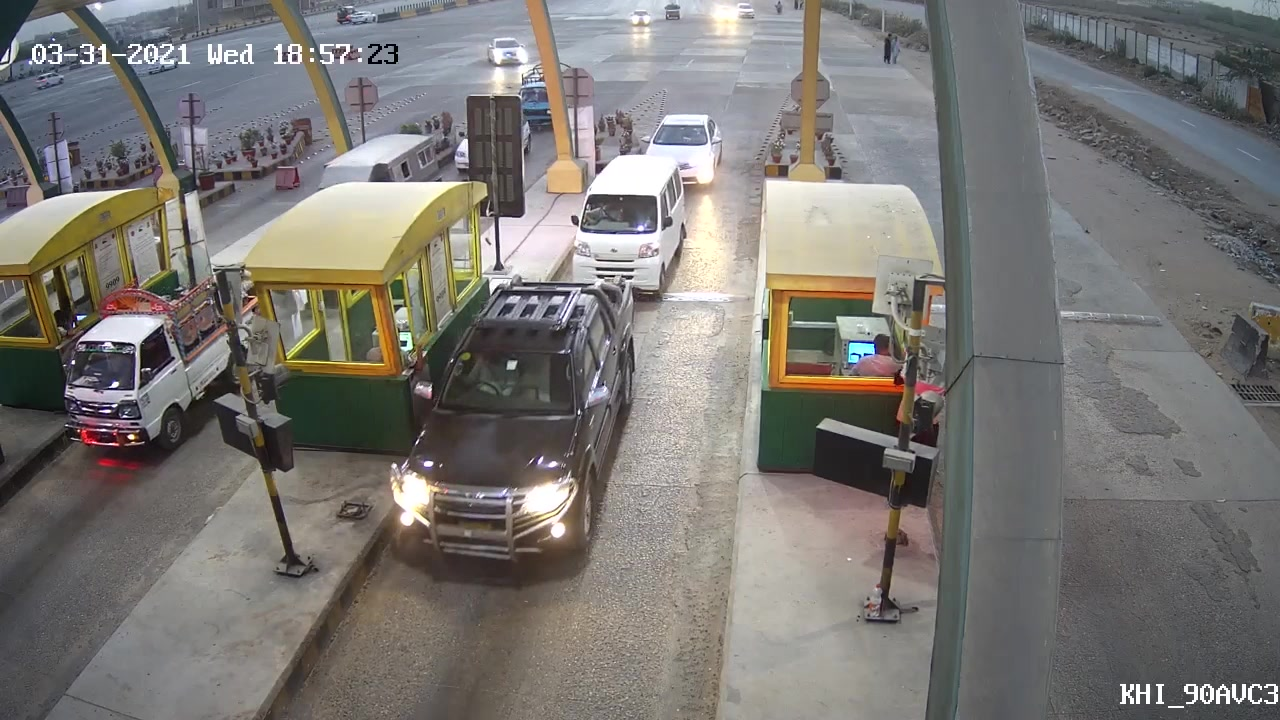F1: (382, 276, 655, 582)
